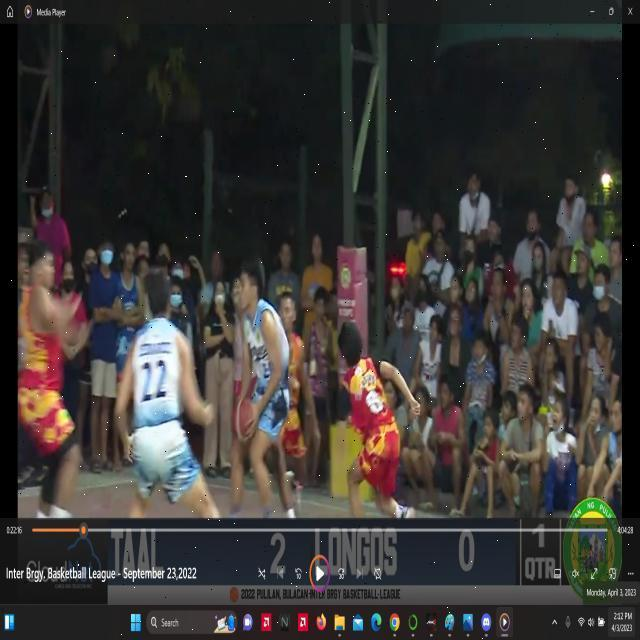ball: (228, 390, 258, 441)
